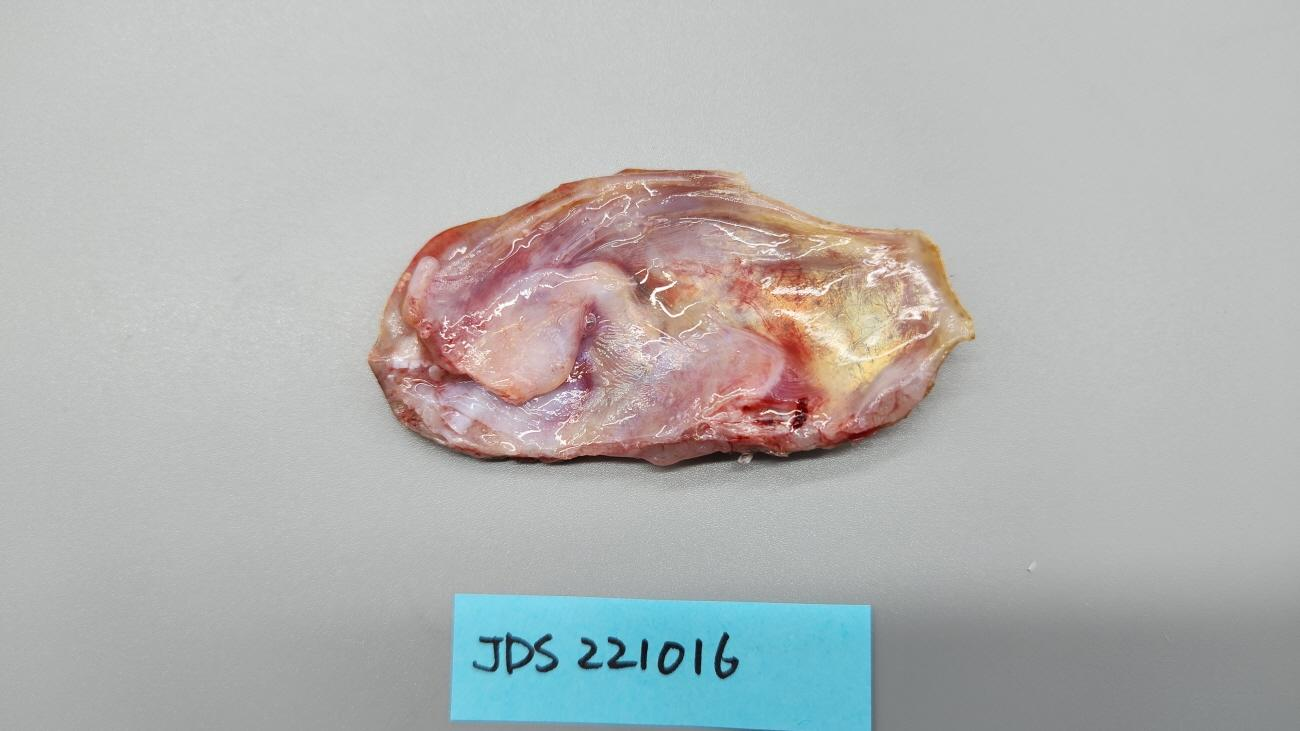POGCN: (370, 167, 972, 467)
